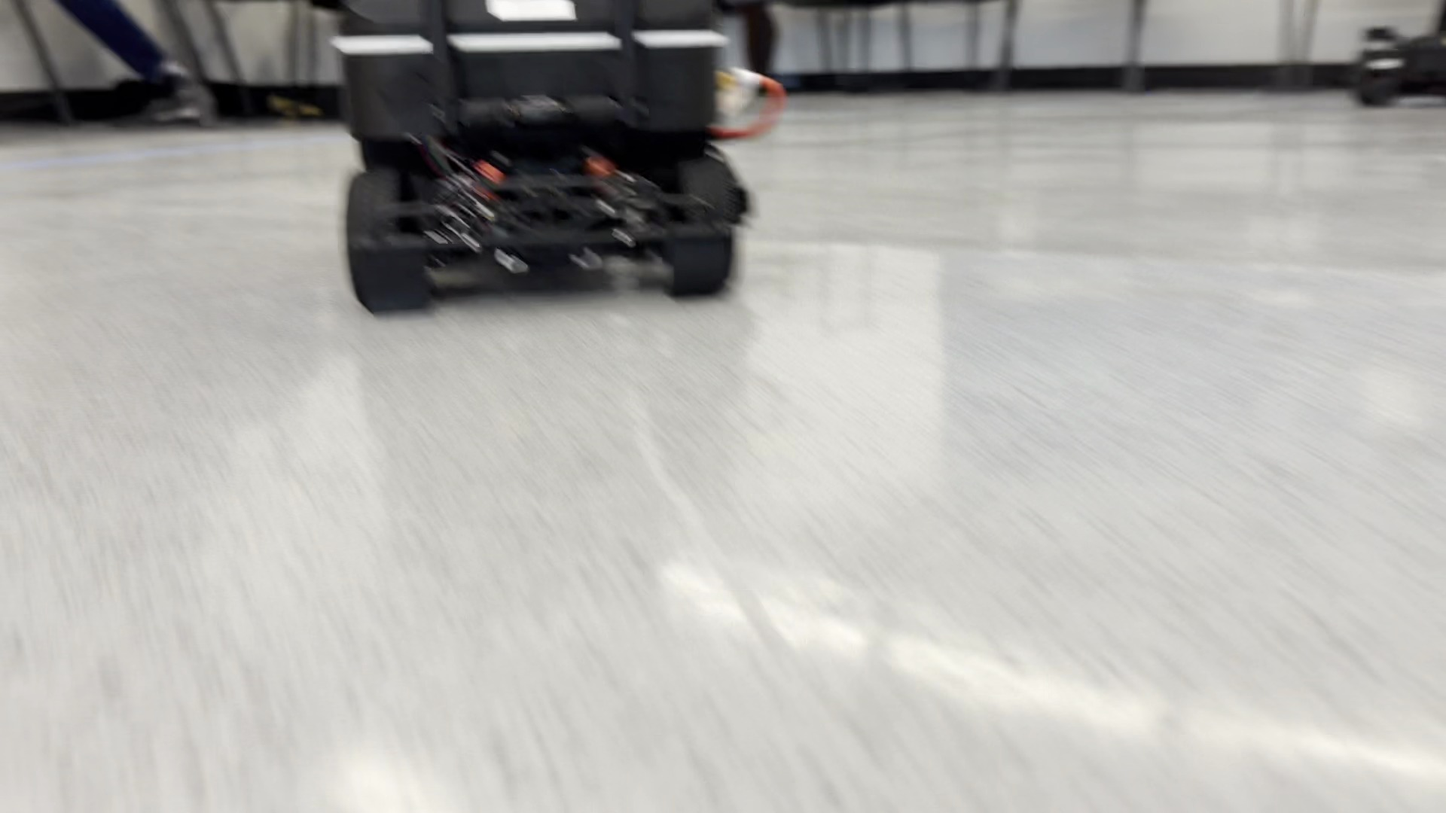racecar: (329, 0, 772, 310)
